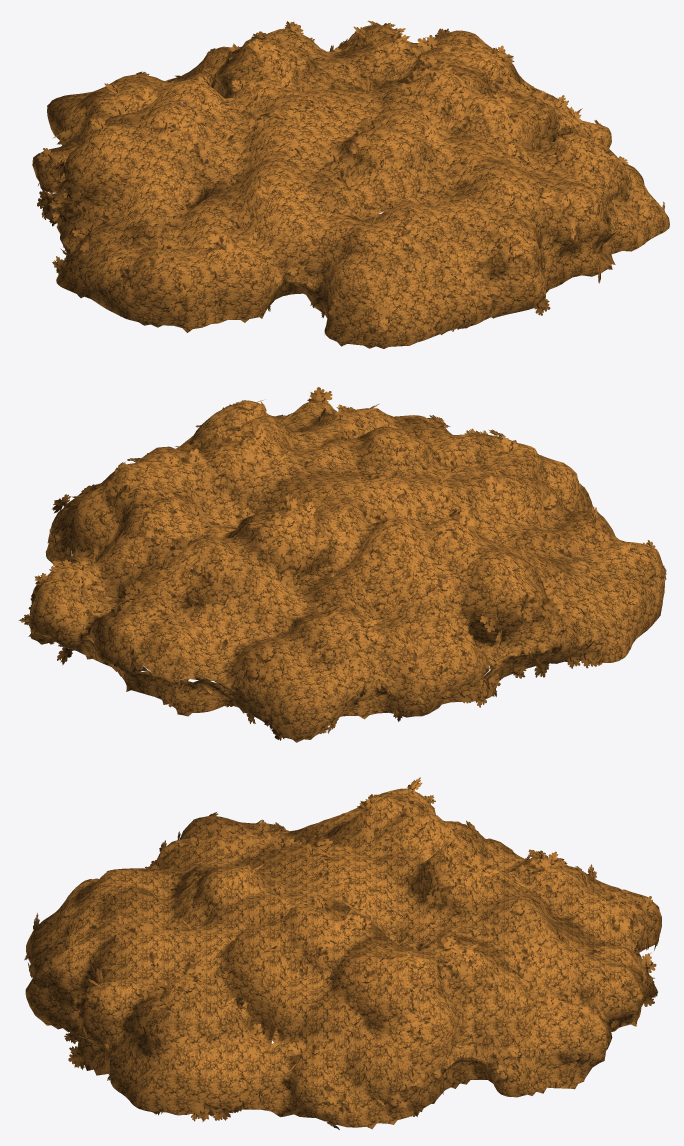
Rendered from leafpile1.glb.
The picture shows the model from 3 angles, top to bottom: view 1: azimuth 30°, elevation 25°; view 2: azimuth 150°, elevation 25°; view 3: azimuth 270°, elevation 25°; orthographic projection.
Parts seen in each view (by area): view 1: leafpile1_mass_LOD0, leafpile1_leaves_LOD0; view 2: leafpile1_mass_LOD0, leafpile1_leaves_LOD0; view 3: leafpile1_mass_LOD0, leafpile1_leaves_LOD0.
Boxes of the visible parts, bbox=[...] form: leafpile1_mass_LOD0: bbox=[32, 25, 669, 348]; leafpile1_leaves_LOD0: bbox=[37, 21, 664, 343]; leafpile1_mass_LOD0: bbox=[28, 400, 664, 742]; leafpile1_leaves_LOD0: bbox=[18, 387, 666, 740]; leafpile1_mass_LOD0: bbox=[25, 788, 661, 1129]; leafpile1_leaves_LOD0: bbox=[24, 777, 661, 1129].
Size of what is drawn, in the model's own units: 1.8 by 0.5001 by 1.78.
Materials: 2 (2 with a texture image).
